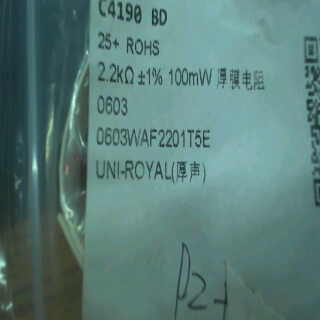2.2kR: (95, 58, 136, 85)
